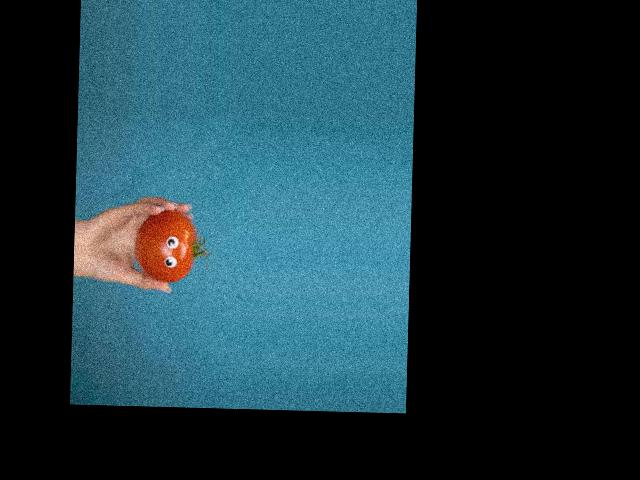tomato: (133, 209, 198, 284)
